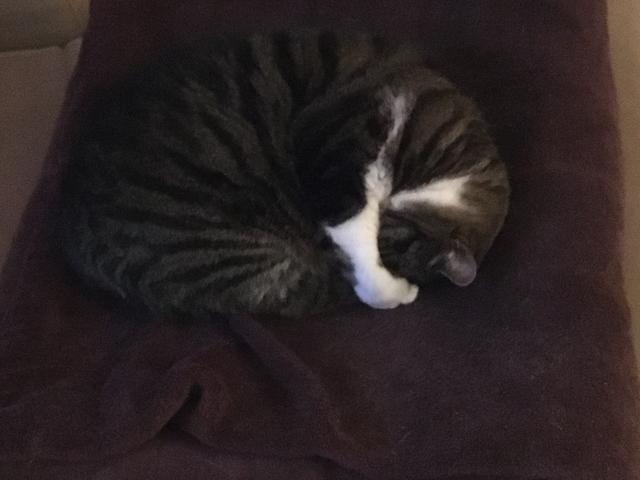playdoh: (47, 26, 511, 320)
